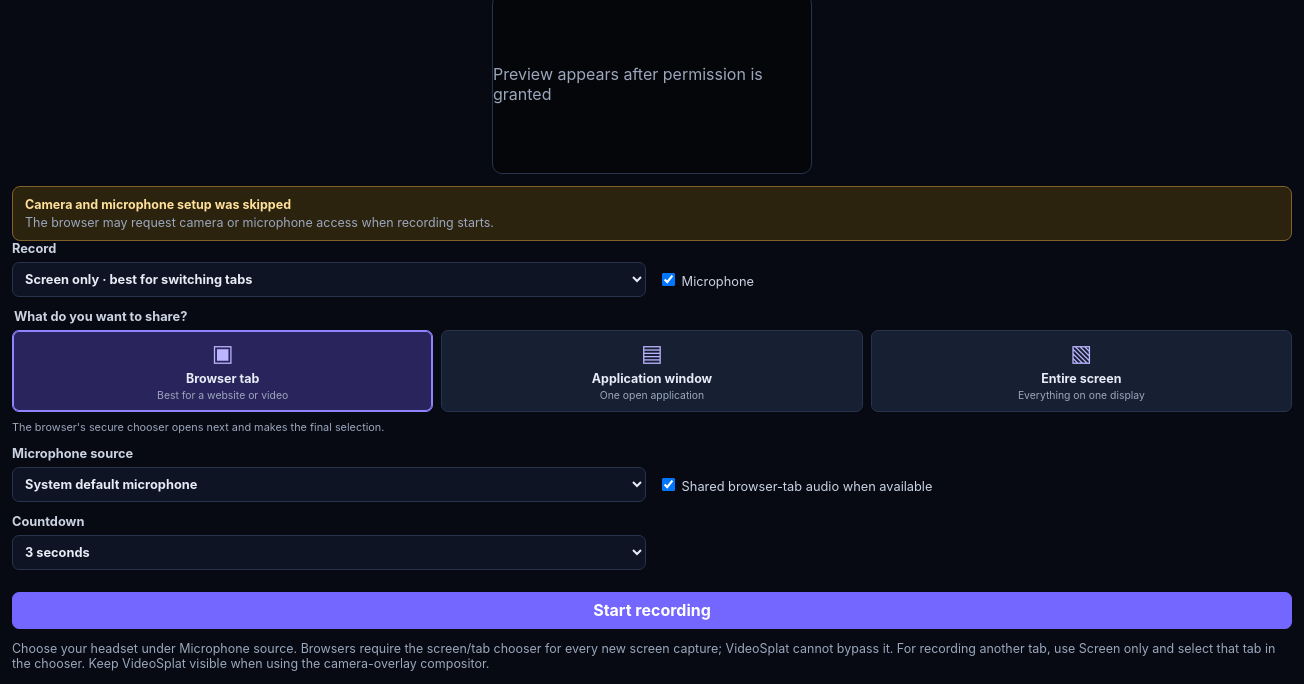
Scenario: shows startup errors and permits retry rather than silently returning to setup
(page scrolled)
Click the button "Start recording": (652, 610) x1=12 y1=592 x2=1292 y2=629
(page scrolled)
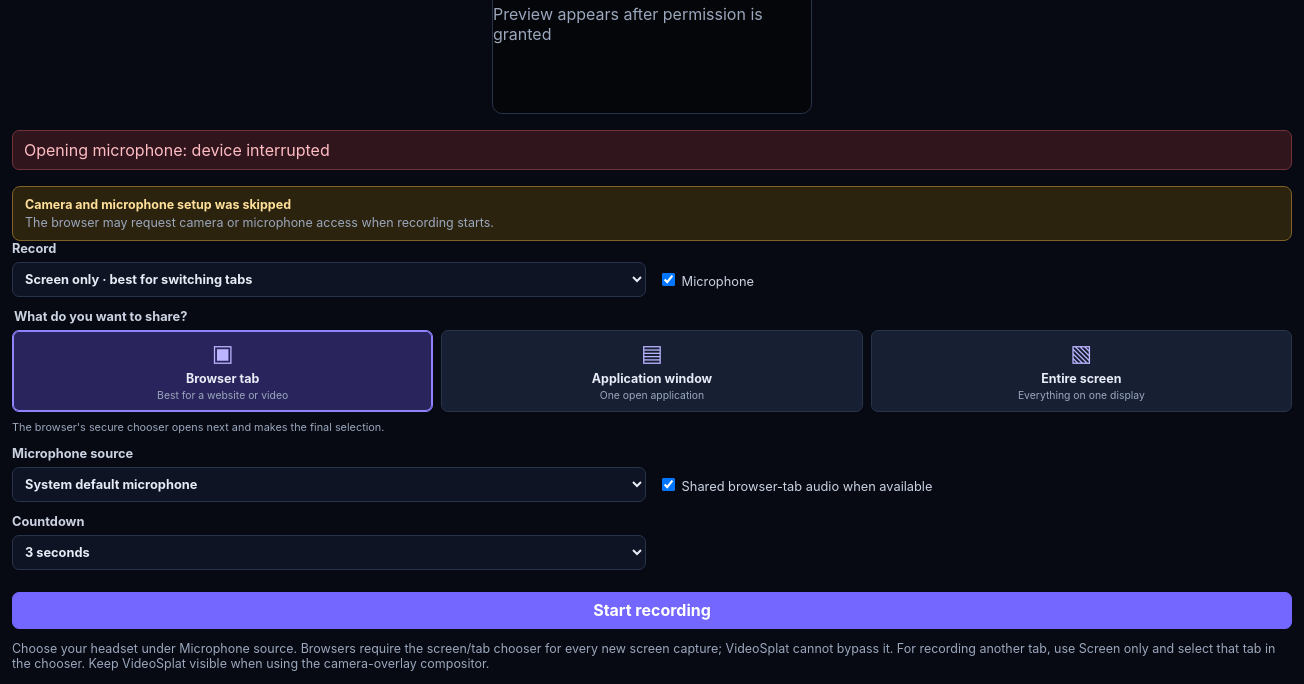
Check: the message "Opening microphone: device interrupted" is shown, box x1=12 y1=130 x2=1292 y2=170
Click the button "Start recording": (652, 610) x1=12 y1=592 x2=1292 y2=629
(page scrolled)
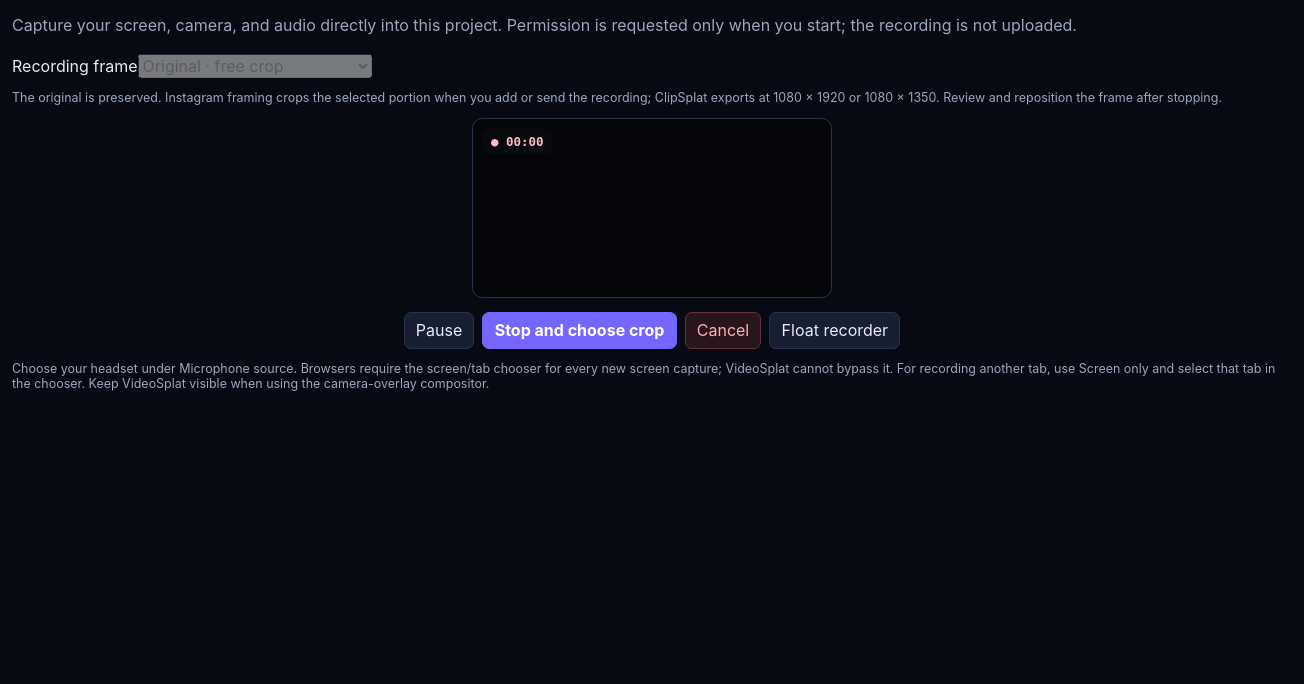
Check: the button "Stop and choose crop" is shown, box x1=482 y1=312 x2=677 y2=349
